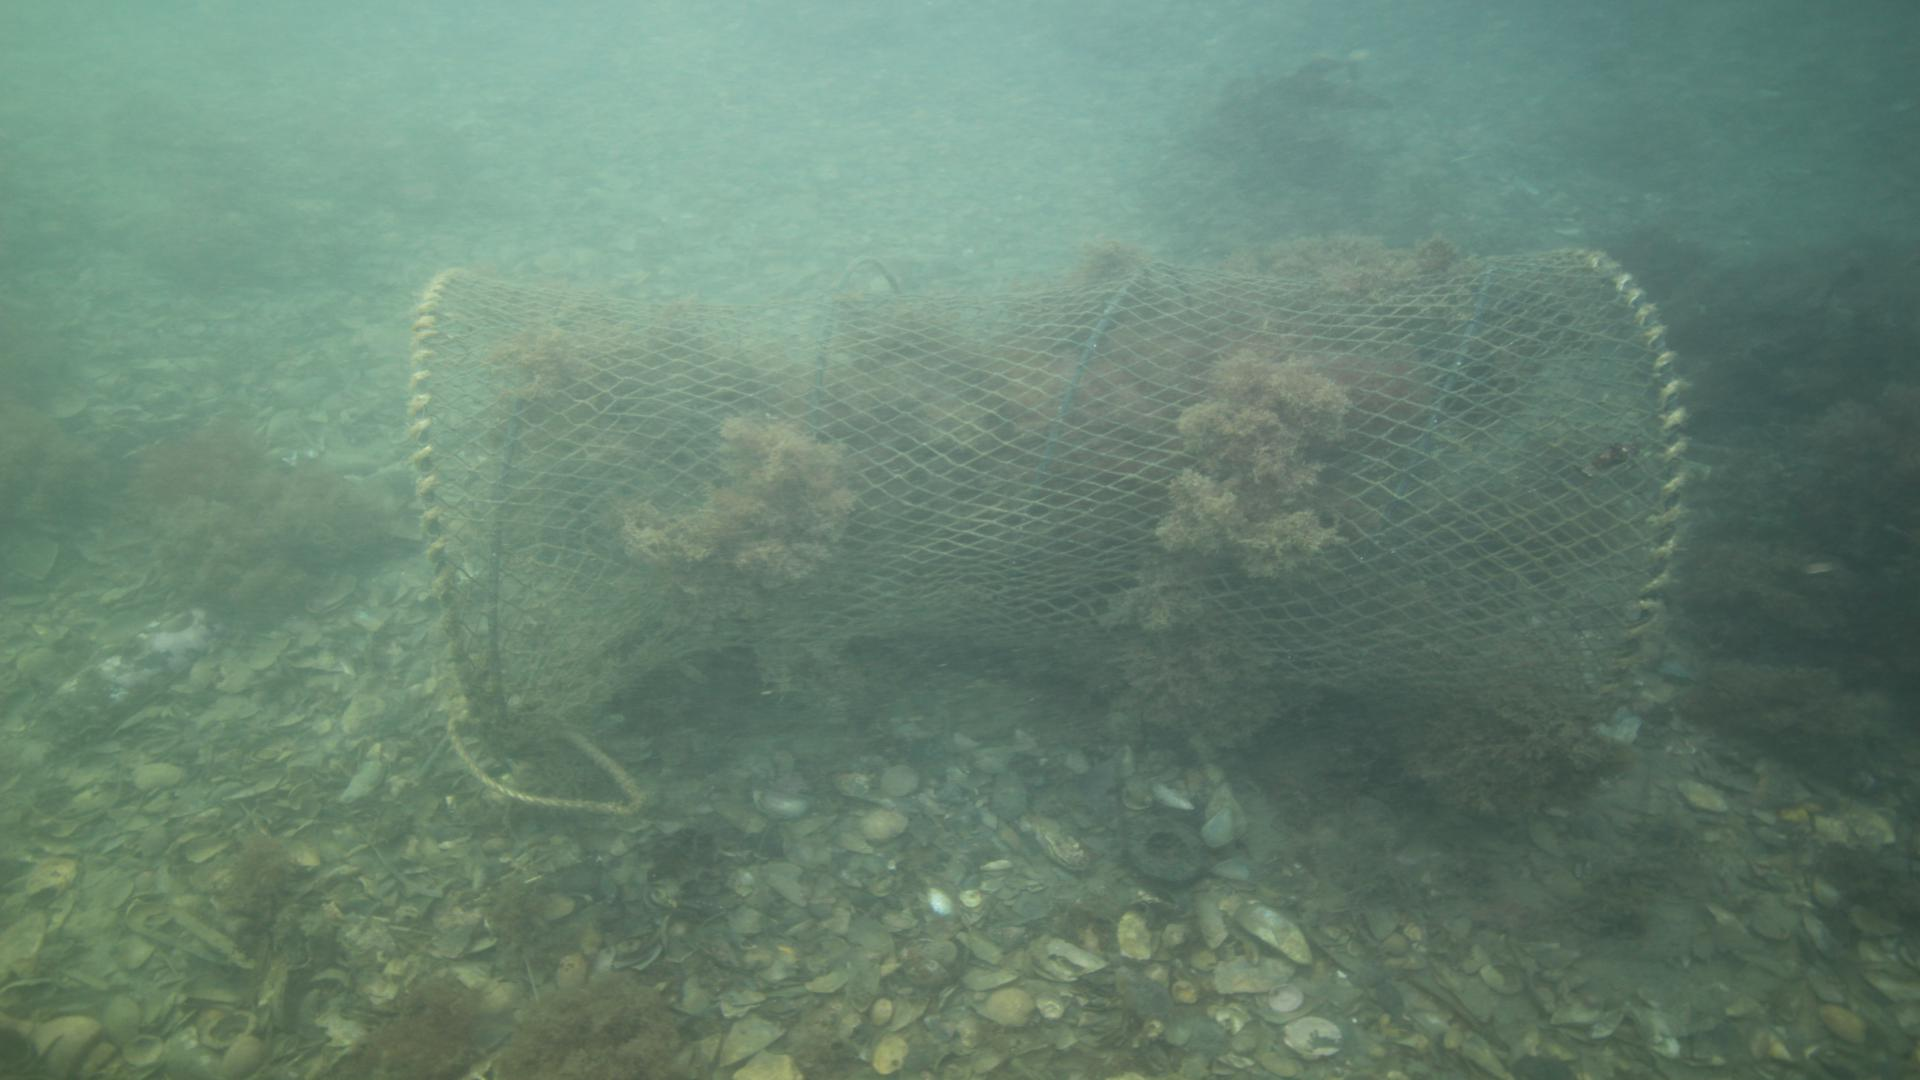rope: (435, 702, 651, 814)
spring fish trap: (405, 247, 1689, 756)
